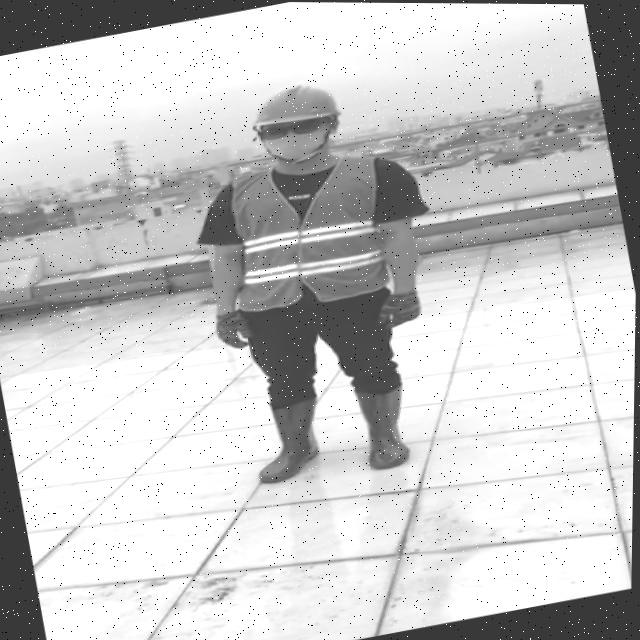goggles_on: (259, 114, 329, 143)
